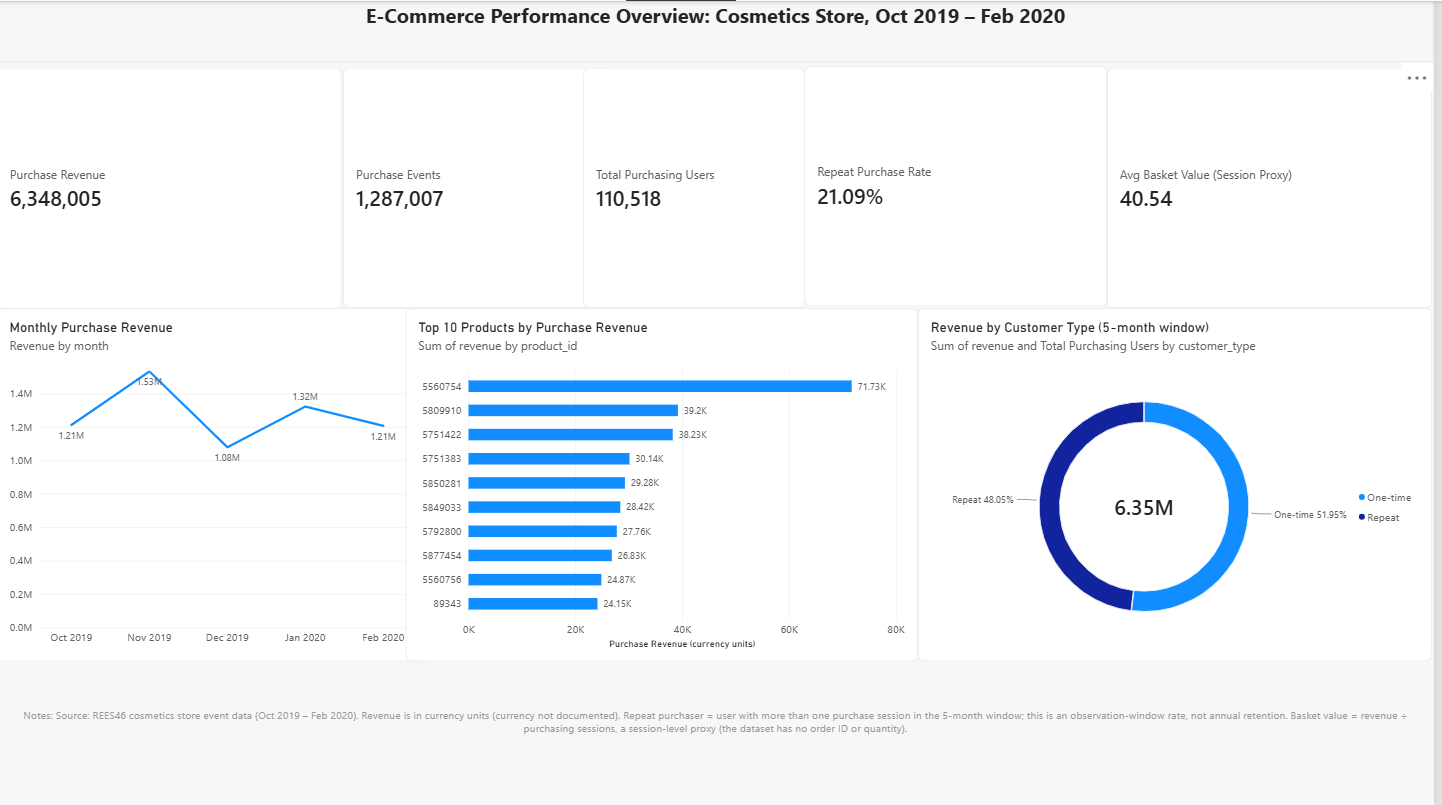

What the dashboard file says about the page in this screenshot:
{"tool":"powerbi","page":{"name":"Executive Overview","canvas":[1920,1080],"ordinal":0},"visuals":[{"type":"cardVisual","fields":{"Data":["Sum(monthly_kpis.revenue)"]},"box":[-0.2,89.7,461.7,321.3],"z":0},{"type":"cardVisual","fields":{"Data":["Sum(monthly_kpis.purchase_events)"]},"box":[461.8,90.8,357.6,320.3],"z":1000},{"type":"cardVisual","fields":{"Data":["customer_segments.Total Purchasing Users"]},"box":[783.5,90.8,296.6,320.3],"z":2000},{"type":"cardVisual","fields":{"Data":["monthly_kpis.Avg Basket Value (Session Proxy)"]},"box":[1482.7,89.7,434,320],"z":3000},{"type":"lineChart","title":"Monthly Purchase Revenue","fields":{"Category":["monthly_kpis.month"],"Y":["Sum(monthly_kpis.revenue)"]},"box":[0,410.7,575,471.4],"z":4000},{"type":"clusteredBarChart","title":"Top 10 Products by Purchase Revenue","fields":{"Category":["product_performance.product_id"],"Y":["Sum(product_performance.revenue)"]},"box":[546.4,410.7,683.9,471.4],"z":5000},{"type":"cardVisual","title":"Repeat-Purchase Rate (5-month window)","fields":{"Data":["customer_segments.Repeat Purchase Rate"]},"box":[1078.5,87.6,404.3,321.3],"z":6000},{"type":"donutChart","title":"Revenue by Customer Type (5-month window)","fields":{"Category":["customer_segments.customer_type"],"Y":["Sum(customer_segments.revenue)"]},"box":[1230.4,410.7,685.7,471.4],"z":7000},{"type":"textbox","box":[1.8,942.9,1916.1,137.5],"z":8000},{"type":"textbox","box":[1.8,0,1916.1,82.1],"z":9000}]}

Visuals, with their boxes in screenshot pixels (x1, y1, x2, y2), scaled from the page's 1920x1080 canvas onto the 1442x805 screenshot:
cardVisual - Sum(monthly_kpis.revenue): (0, 67, 347, 306)
cardVisual - Sum(monthly_kpis.purchase_events): (347, 68, 615, 306)
cardVisual - customer_segments.Total Purchasing Users: (588, 68, 811, 306)
cardVisual - monthly_kpis.Avg Basket Value (Session Proxy): (1114, 67, 1440, 305)
"Monthly Purchase Revenue" lineChart: (0, 306, 432, 657)
"Top 10 Products by Purchase Revenue" clusteredBarChart: (410, 306, 924, 657)
"Repeat-Purchase Rate (5-month window)" cardVisual: (810, 65, 1114, 305)
"Revenue by Customer Type (5-month window)" donutChart: (924, 306, 1439, 657)
textbox: (1, 703, 1440, 804)
textbox: (1, 0, 1440, 61)
